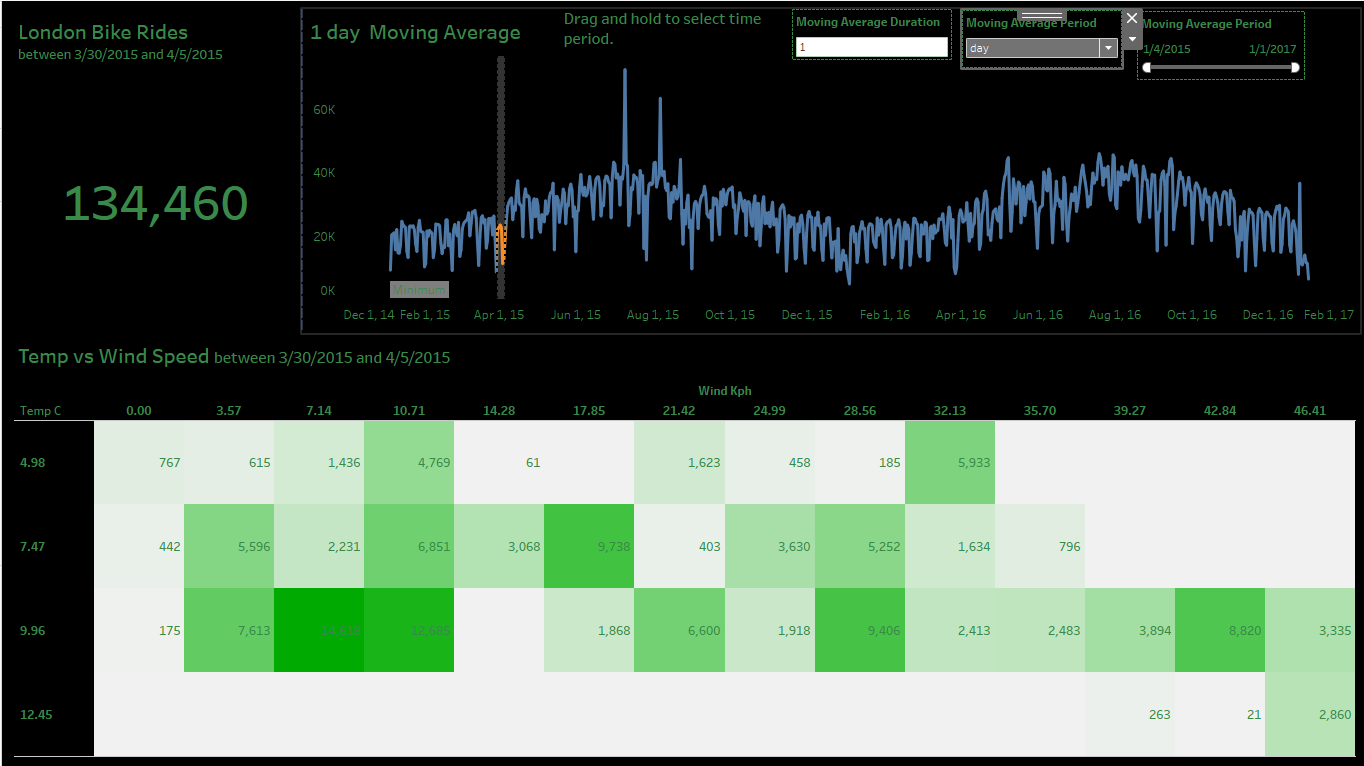

The page's visual inventory and layout, read from the dashboard file:
{"tool":"tableau","page":{"name":"Dashboard 1","canvas":[1366,768],"ordinal":0},"visuals":[{"type":"text","box":[559,5,203,45]},{"type":"worksheet","title":"Total Rides","mark":"Automatic","box":[8,8,291.9,324]},{"type":"worksheet","title":"Moving Average","mark":"Automatic","rows":["Calculation1"],"cols":["Calculation_336081182139281409"],"box":[299.9,8,1058.1,324]},{"type":"parameter","param":"[Parameters].[Parameter 2]","box":[790,8,160,51]},{"type":"parameter","param":"[Parameters].[Parameter 1]","box":[960,9,160,58]},{"type":"filter","title":"Moving Average","param":"[federated.1h6v9oy12gb0ya1dw0sja1idhc4z].[none:Calculation_336081182139281409:qk","box":[1135,10,168,69]},{"type":"worksheet","title":"Heat Map","mark":"Square","rows":["temp real C (bin)"],"cols":["Wind Speed Kph (bin)"],"box":[8,332,1350,428]}]}

Visuals, with their boxes on the page's 1366x768 design canvas (x1, y1, x2, y2). These are canvas units, not pixel positions in the 1364x766 screenshot, which may show the page scaled, cropped or inside an application window:
text: [x1=559, y1=5, x2=762, y2=50]
"Total Rides" worksheet: [x1=8, y1=8, x2=300, y2=332]
"Moving Average" worksheet: [x1=300, y1=8, x2=1358, y2=332]
parameter: [x1=790, y1=8, x2=950, y2=59]
parameter: [x1=960, y1=9, x2=1120, y2=67]
"Moving Average" filter: [x1=1135, y1=10, x2=1303, y2=79]
"Heat Map" worksheet (Square marks): [x1=8, y1=332, x2=1358, y2=760]
